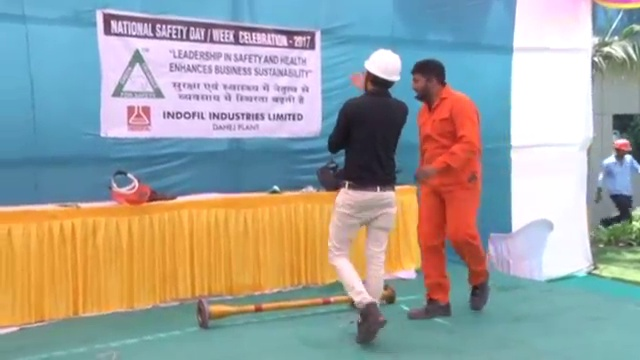helmet: (363, 47, 403, 82), (614, 138, 632, 151)
helmet_off: (412, 59, 444, 100)
helmet_on: (361, 46, 403, 100), (610, 136, 632, 161)
person: (324, 45, 408, 342), (407, 58, 494, 320), (592, 136, 640, 229)
